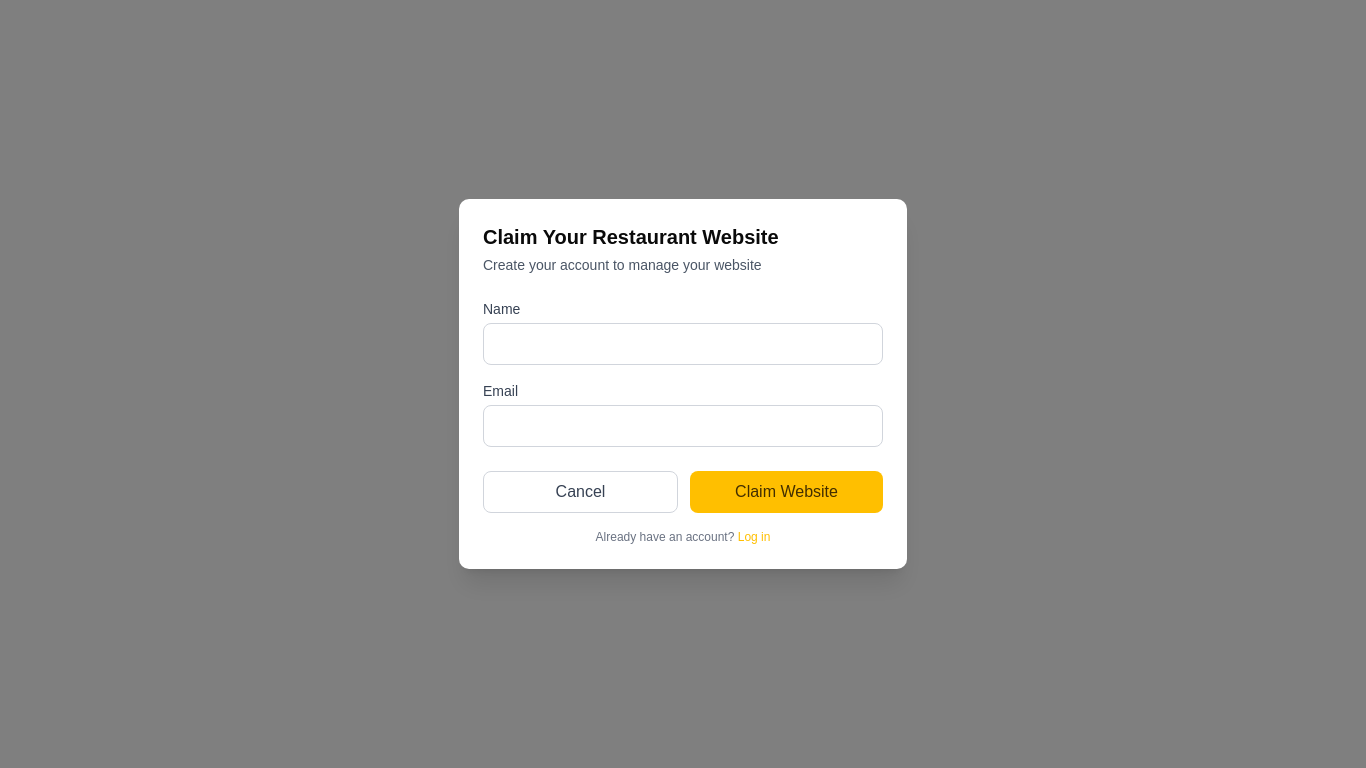
it: ClaimModal › shows server error message on claim failure
Type "John Doe" into the field below "Name" at (683,344), box [483,323,883,365]
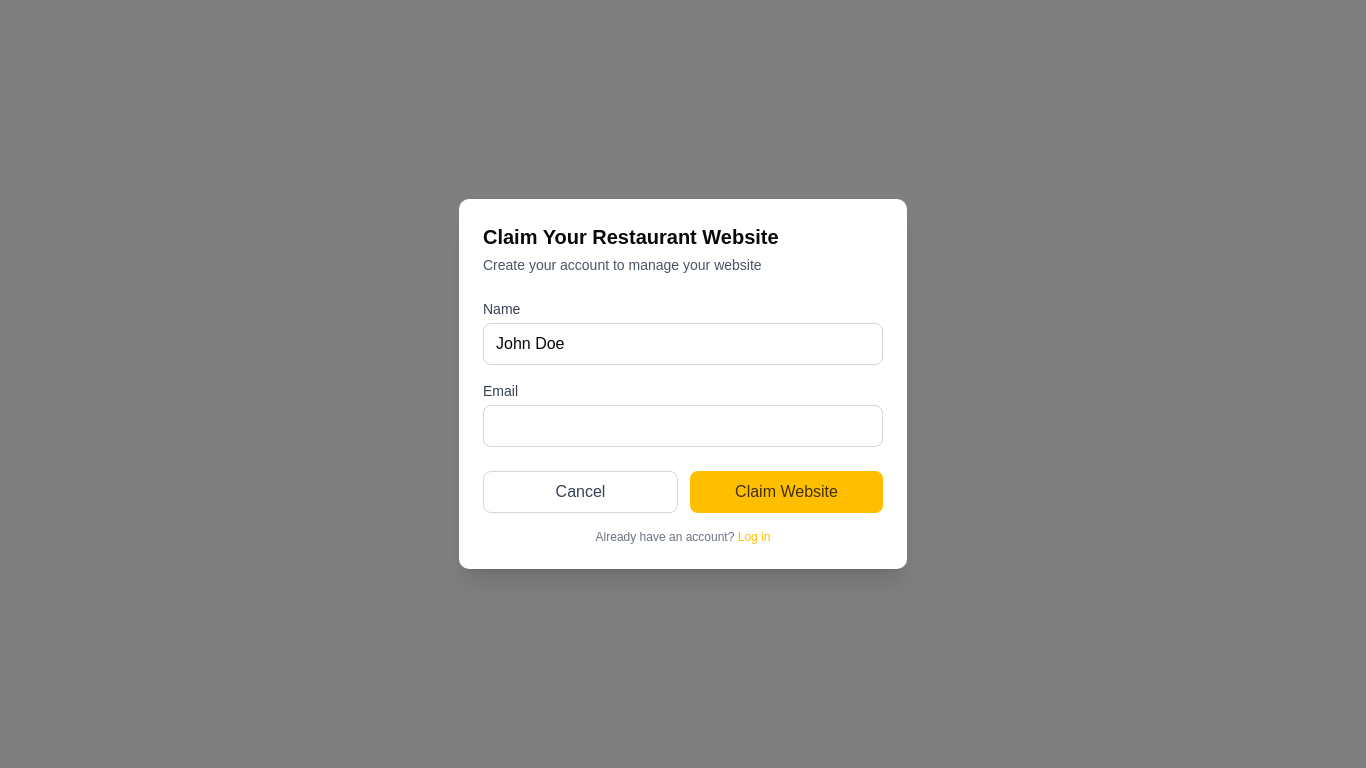
Type "john@test.com" into the field below "Email" at (683,426), box [483,405,883,447]
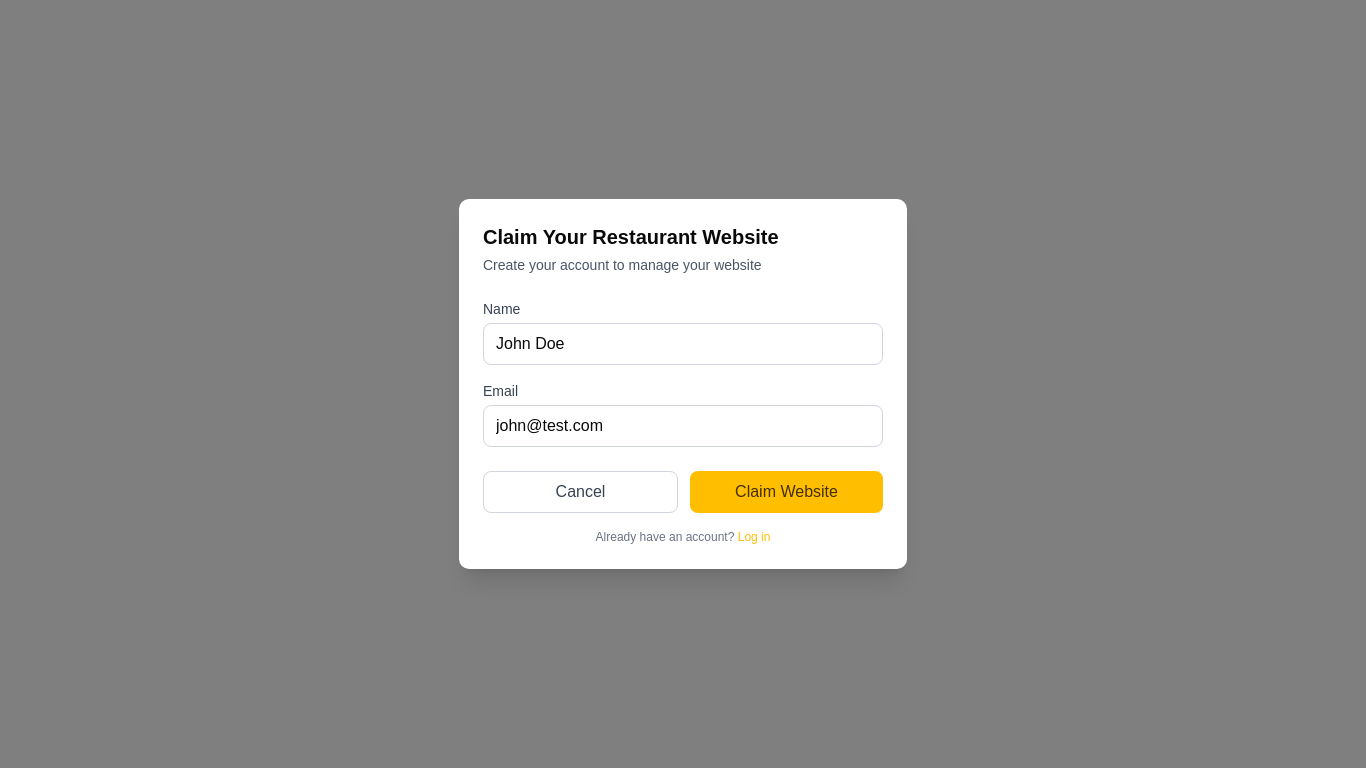
Click the button "Claim Website" at (786,492), box [690,471,883,513]
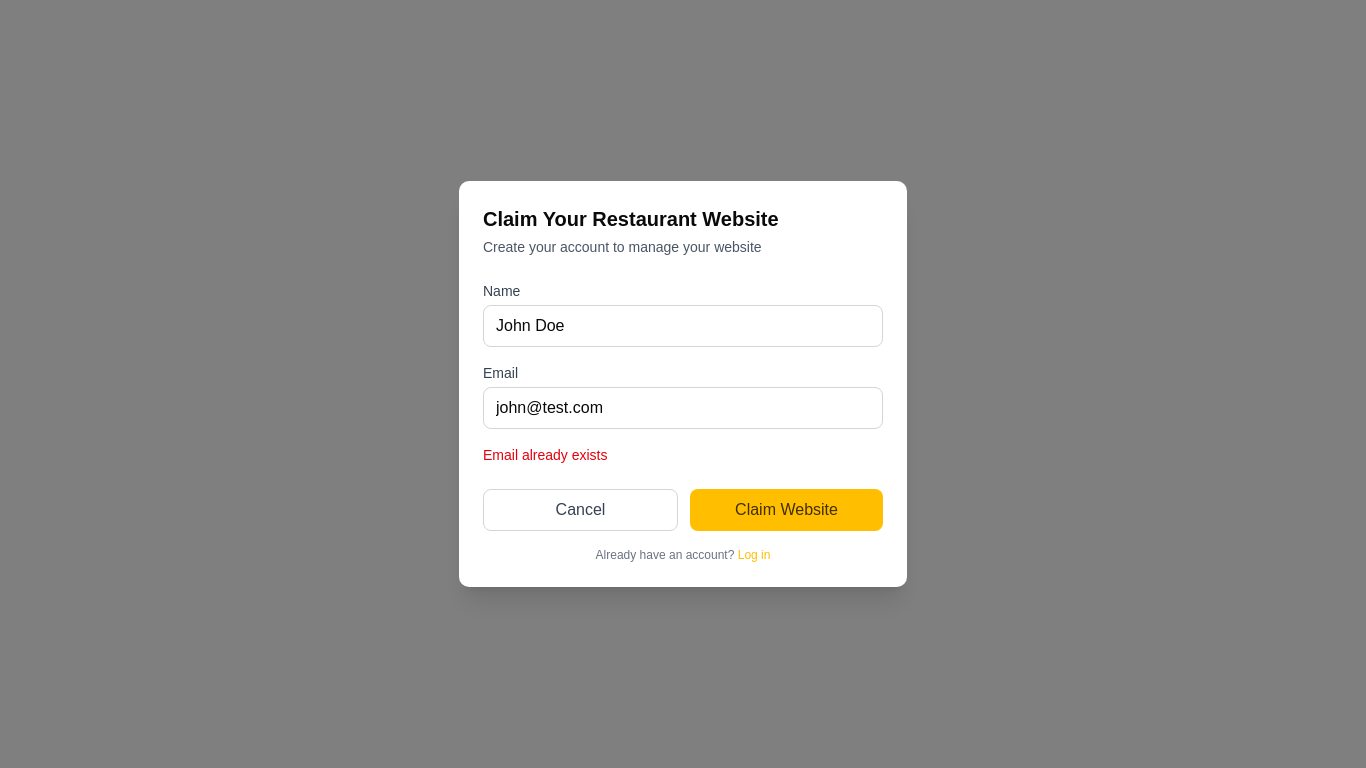
Check: the text "Email already exists" is shown, box [483,447,608,463]
